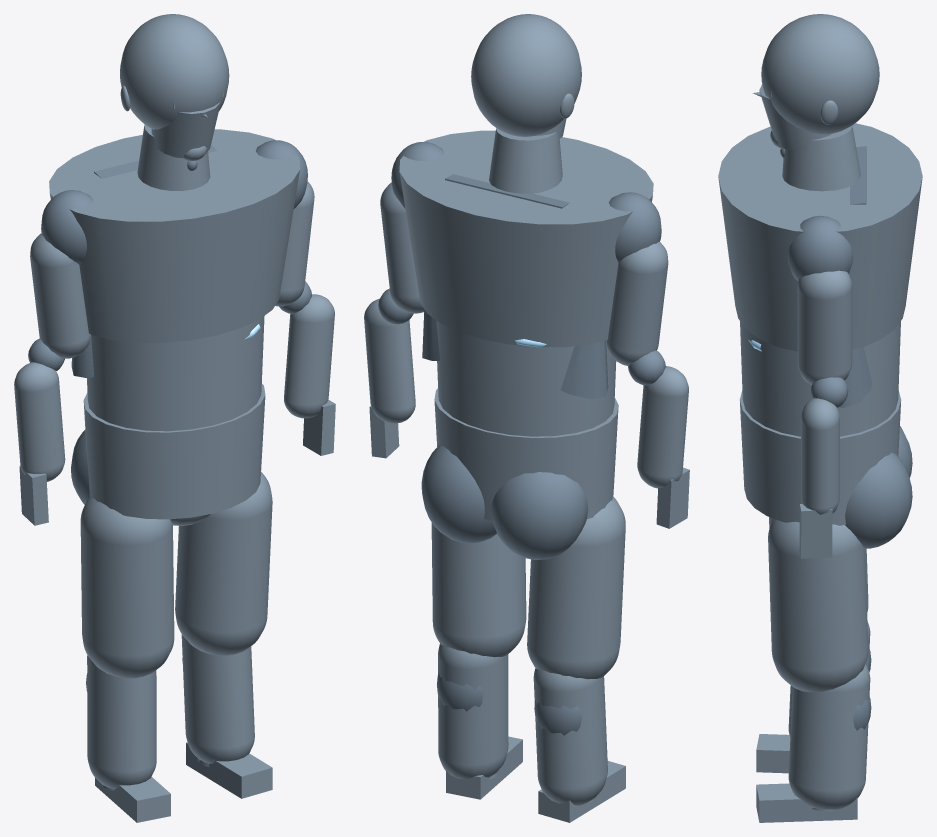
Rendered from human_body_male.glb.
3 views of the same model, side by side, from view 1: azimuth 30°, elevation 25°; view 2: azimuth 150°, elevation 25°; view 3: azimuth 270°, elevation 25° (orthographic).
Visible parts, largest first — view 1: UpperChest, Pelvis, Abdomen, Thigh_L, Thigh_R, Cranium, Calf_L, Calf_R, UpperArm_L, Forearm_R, Forearm_L, Neck (+11 smaller); view 2: UpperChest, Abdomen, Thigh_L, Cranium, Thigh_R, Pelvis, Calf_L, Calf_R, Glute_L, UpperArm_L, Forearm_L, Forearm_R (+16 smaller); view 3: UpperChest, Thigh_R, Cranium, Calf_R, Abdomen, Pelvis, UpperArm_R, Glute_R, Forearm_R, Neck, Deltoid_R, Foot_R (+8 smaller).
Part boxes in pixels (<box>): UpperChest: <box>49,129,299,342</box>; Pelvis: <box>83,384,265,519</box>; Abdomen: <box>87,316,264,431</box>; Thigh_L: <box>80,497,174,678</box>; Thigh_R: <box>175,472,272,655</box>; Cranium: <box>120,14,229,129</box>; Calf_L: <box>87,655,156,789</box>; Calf_R: <box>181,634,254,763</box>; UpperArm_L: <box>30,233,90,358</box>; Forearm_R: <box>284,294,334,418</box>; Forearm_L: <box>14,362,65,481</box>; Neck: <box>137,124,210,190</box>; UpperChest: <box>399,130,653,347</box>; Abdomen: <box>436,320,616,436</box>; Thigh_L: <box>527,496,625,679</box>; Cranium: <box>471,14,581,136</box>; Thigh_R: <box>431,522,526,657</box>; Pelvis: <box>434,388,618,520</box>; Calf_L: <box>533,668,607,805</box>; Calf_R: <box>438,643,508,779</box>; Glute_L: <box>491,472,588,559</box>; UpperArm_L: <box>606,241,668,365</box>; Forearm_L: <box>637,366,688,488</box>; Forearm_R: <box>364,298,415,423</box>; UpperChest: <box>718,123,922,351</box>; Thigh_R: <box>768,518,868,692</box>; Cranium: <box>761,14,879,134</box>; Calf_R: <box>788,664,870,810</box>; Abdomen: <box>740,321,900,436</box>; Pelvis: <box>739,391,901,525</box>; UpperArm_R: <box>797,270,852,385</box>; Glute_R: <box>845,452,912,548</box>; Forearm_R: <box>801,398,839,514</box>; Neck: <box>782,126,860,191</box>; Deltoid_R: <box>787,215,853,281</box>; Foot_R: <box>756,783,857,822</box>.
Size of the model in its own units: 0.8215 by 1.9 by 0.456.
